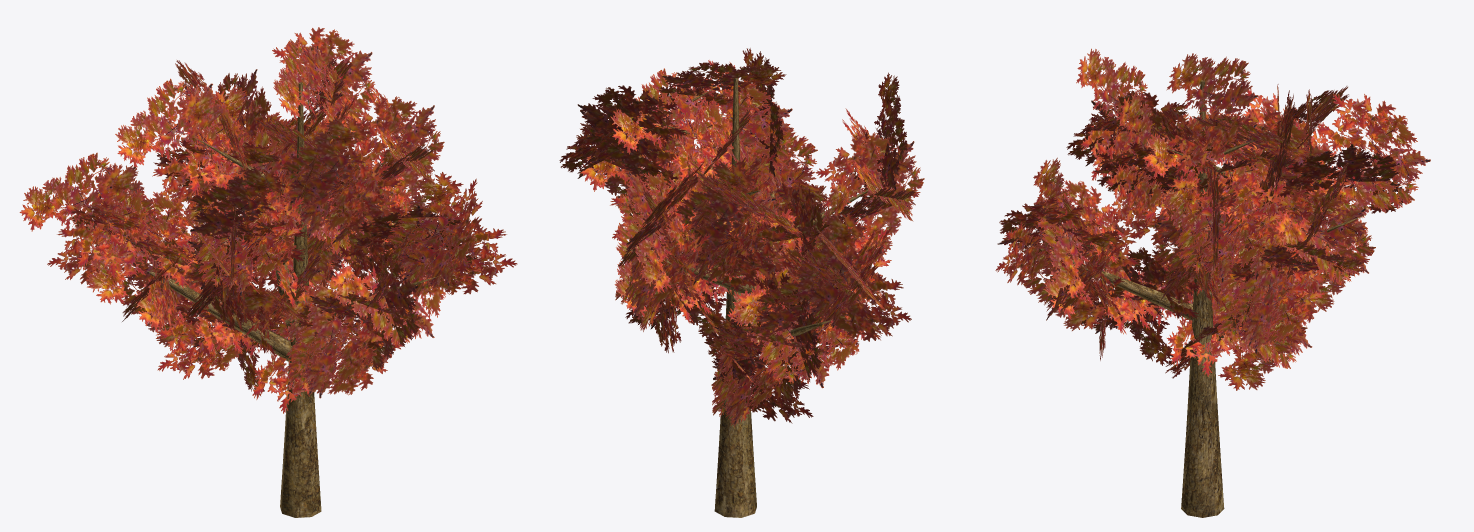
Rendered from Tree1.fbx.
3 renders of one model, left to right at view 1: azimuth 30°, elevation 25°; view 2: azimuth 150°, elevation 25°; view 3: azimuth 270°, elevation 25°, orthographic. The views are drawn at different scales.
Visible parts, largest first — view 1: Cylinder01; view 2: Cylinder01; view 3: Cylinder01.
Part boxes in pixels (x1,y1,x2,y2): Cylinder01: [19, 27, 517, 517]; Cylinder01: [559, 48, 924, 517]; Cylinder01: [995, 48, 1430, 517].
Size of the model in its own units: 867 by 978 by 921.
